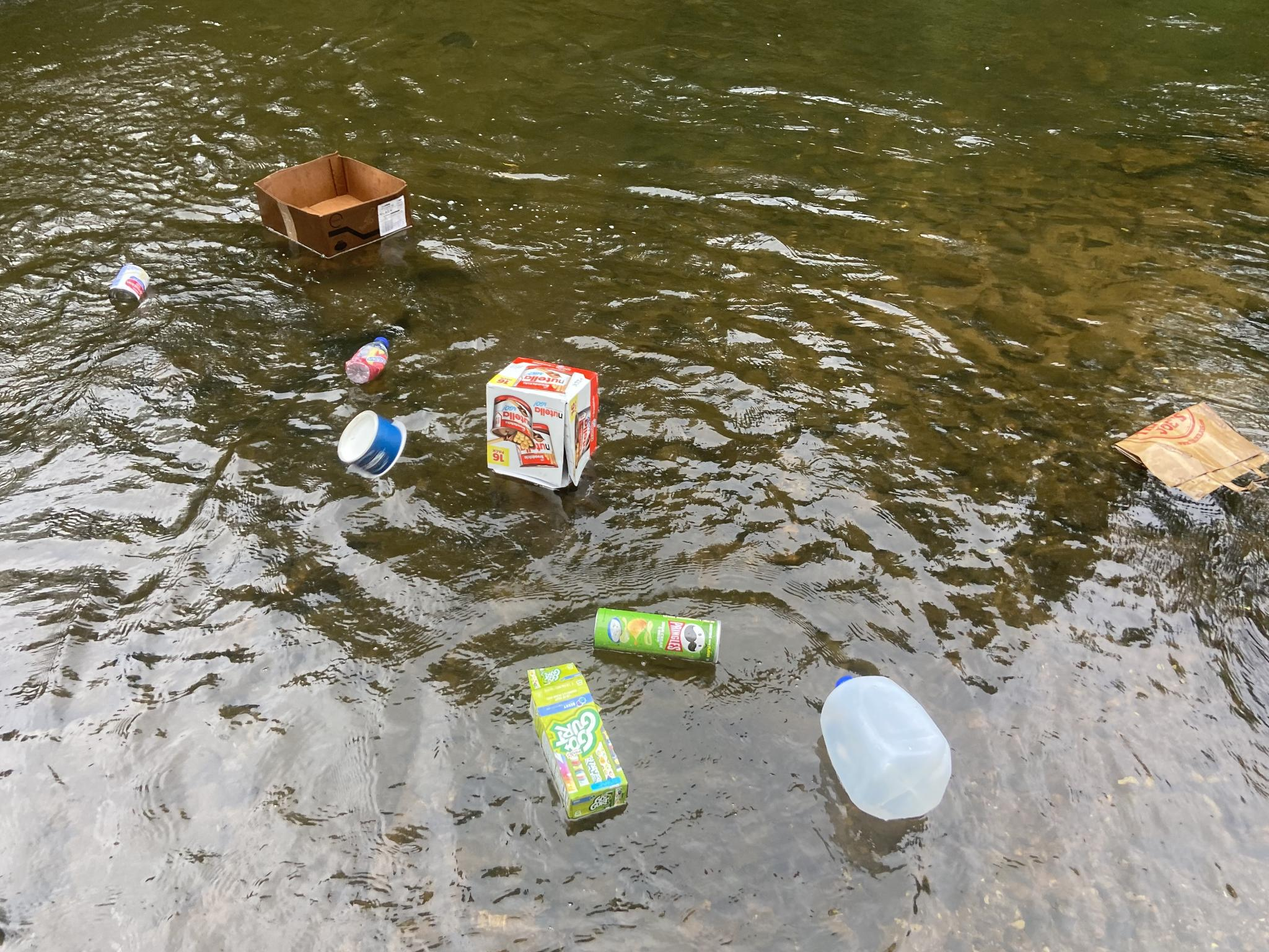cardboard: (249, 143, 419, 261), (520, 656, 633, 823), (481, 351, 605, 493)
metal: (584, 600, 726, 672), (101, 260, 153, 307)
paper: (1107, 392, 1269, 518), (331, 406, 414, 485)
plastic: (814, 667, 959, 825), (334, 332, 399, 384)
